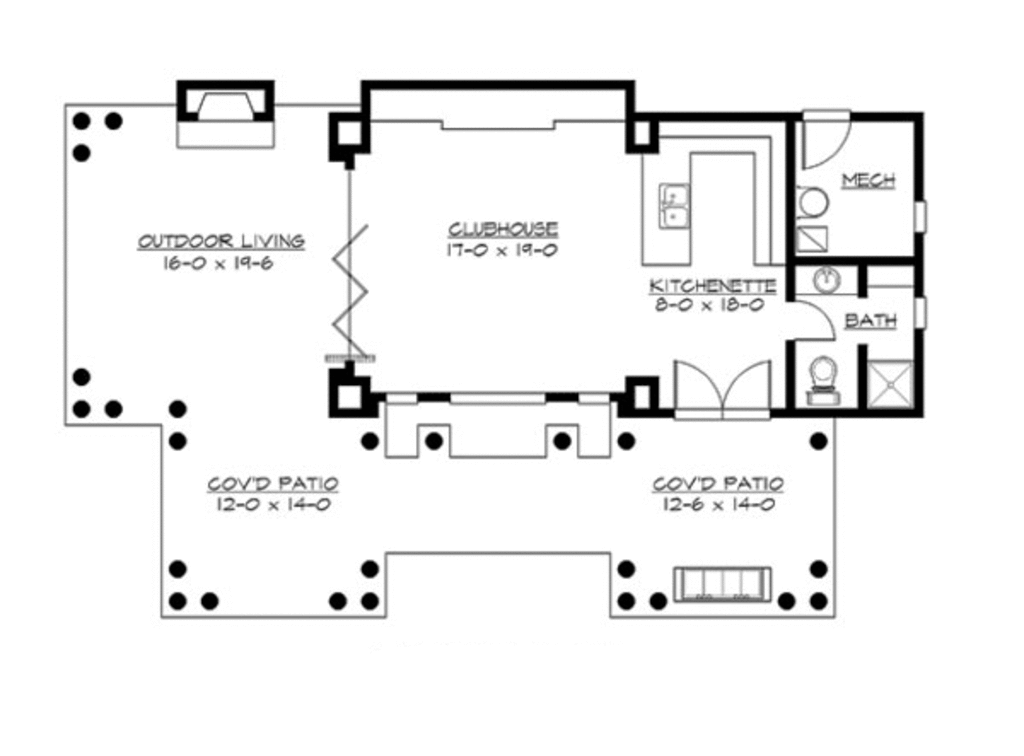door: (672, 357, 774, 415), (800, 115, 856, 172), (785, 293, 836, 345)
large_sink: (804, 355, 841, 412)
large_sofa: (671, 565, 774, 605)
small_sink: (795, 268, 857, 295)
twin_sink: (657, 180, 692, 231)
